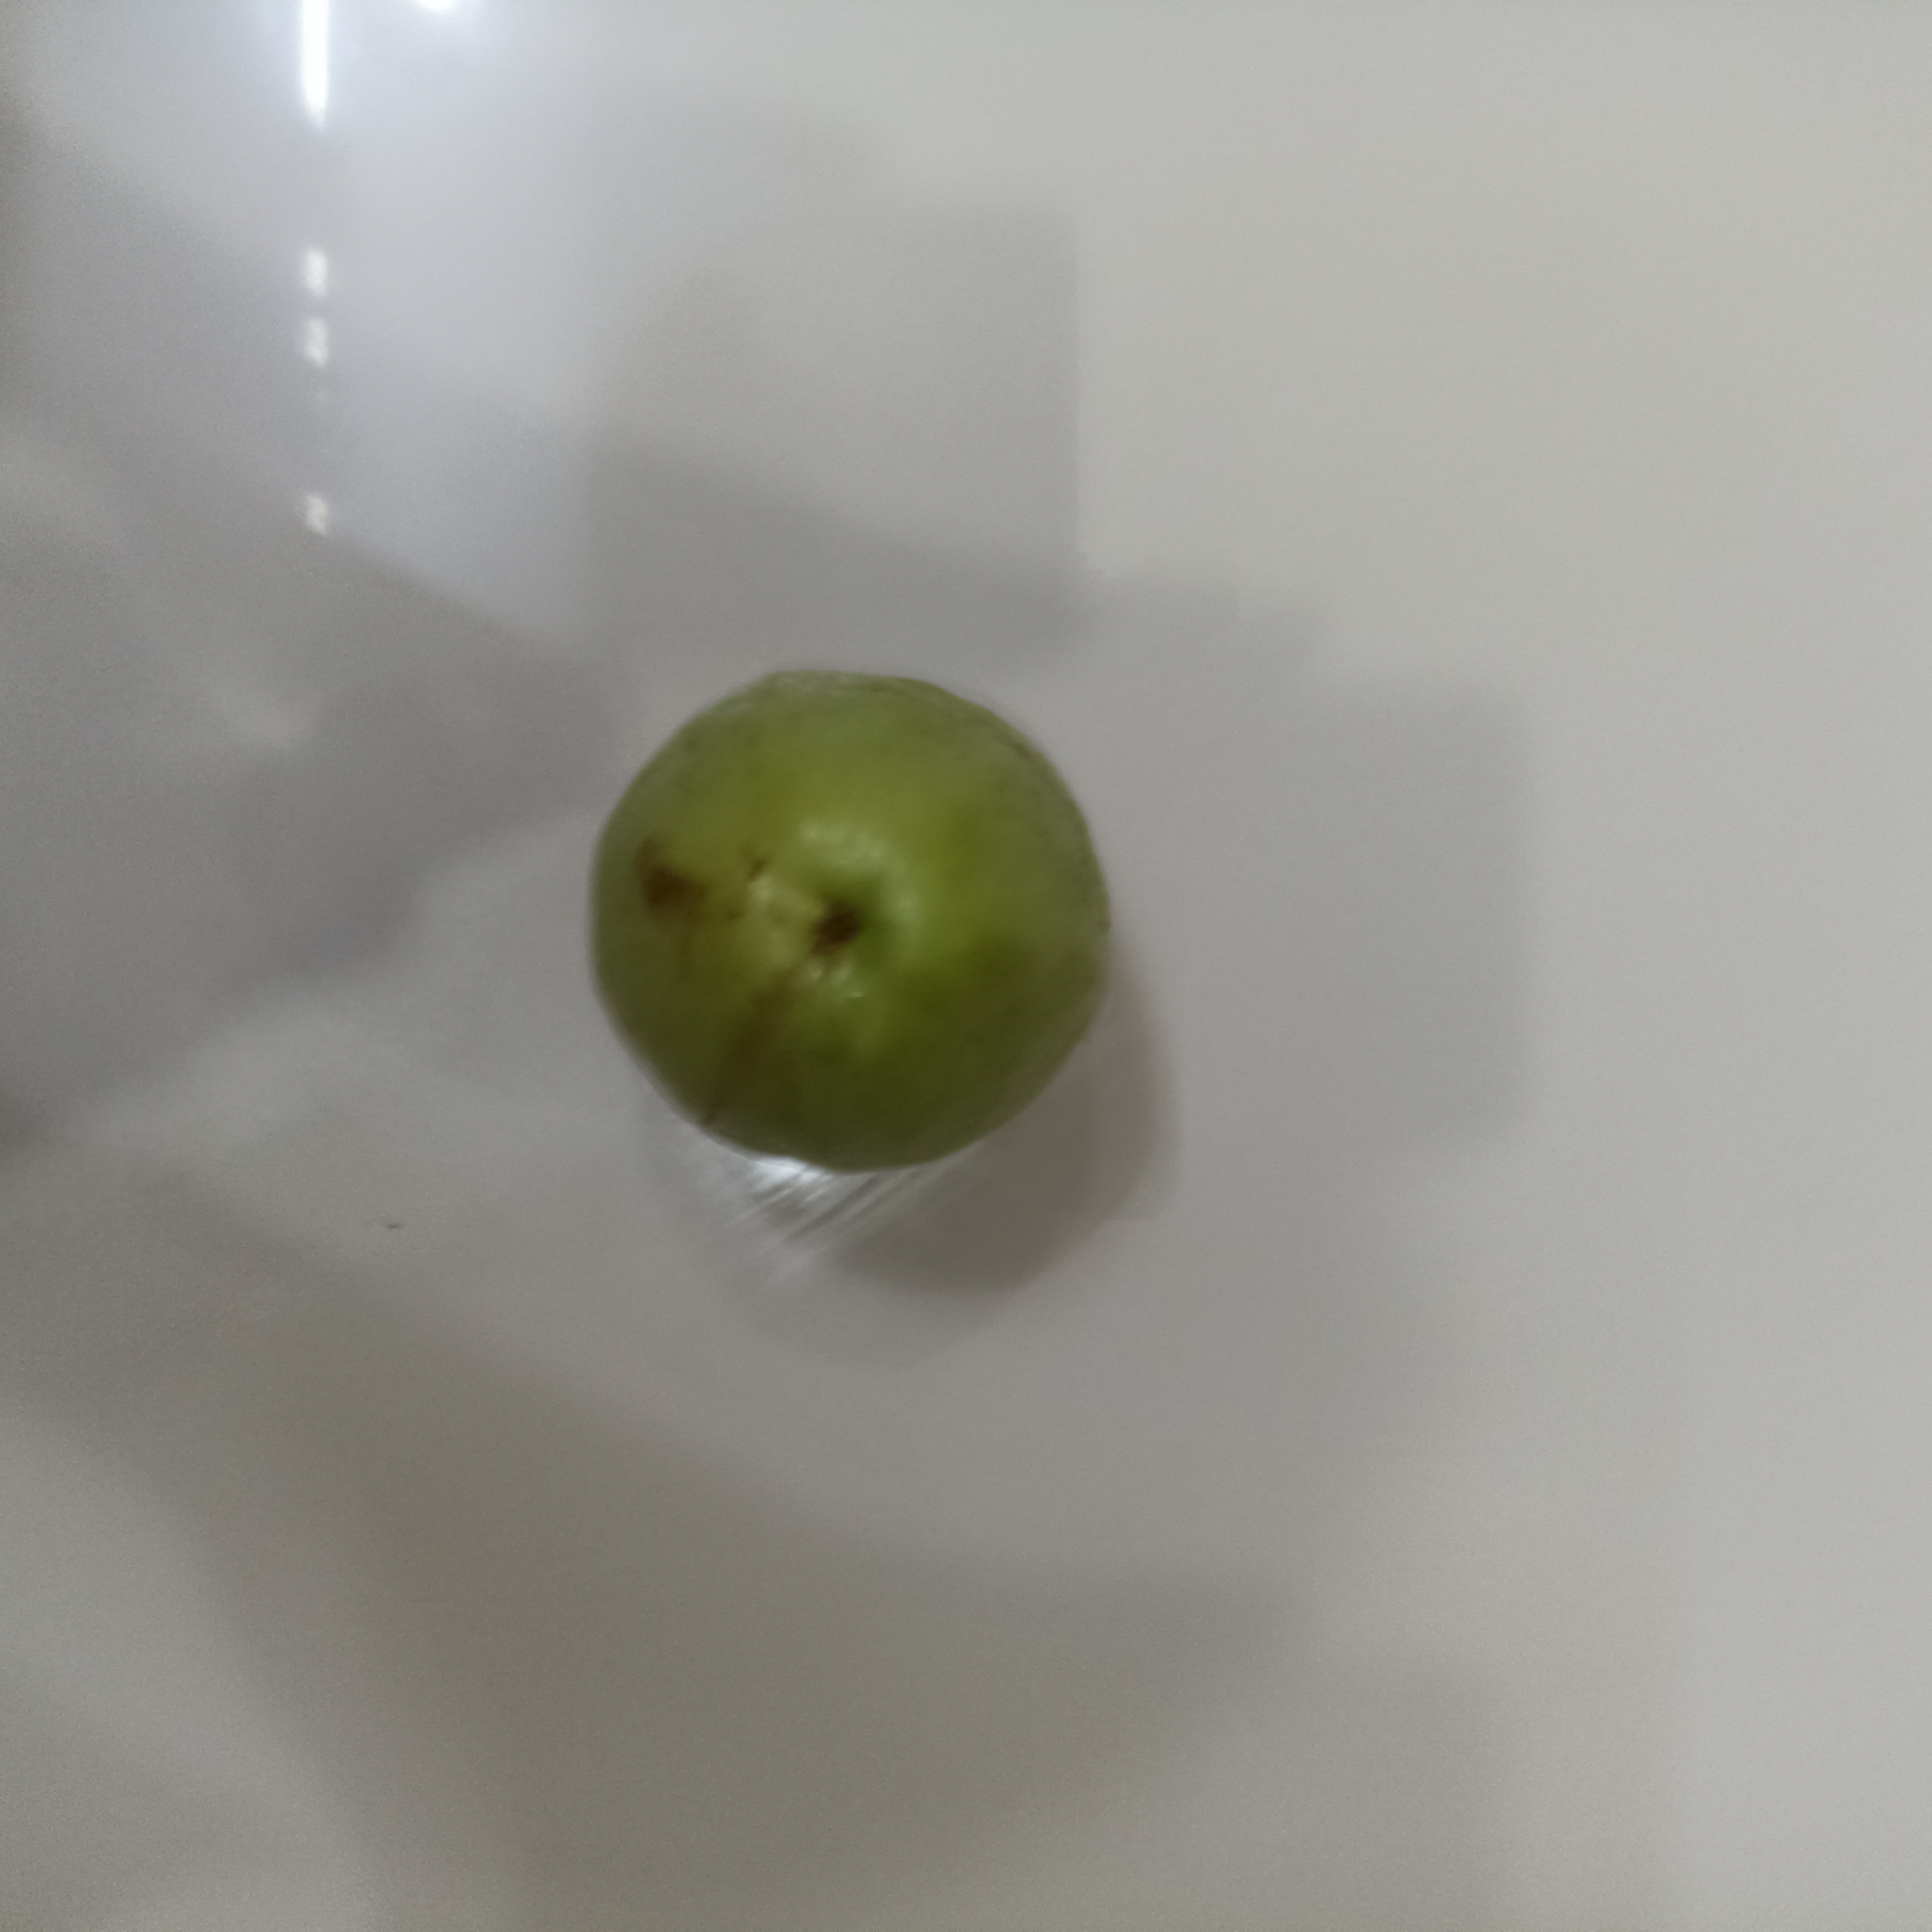Oi: (580, 673, 1111, 1177)
